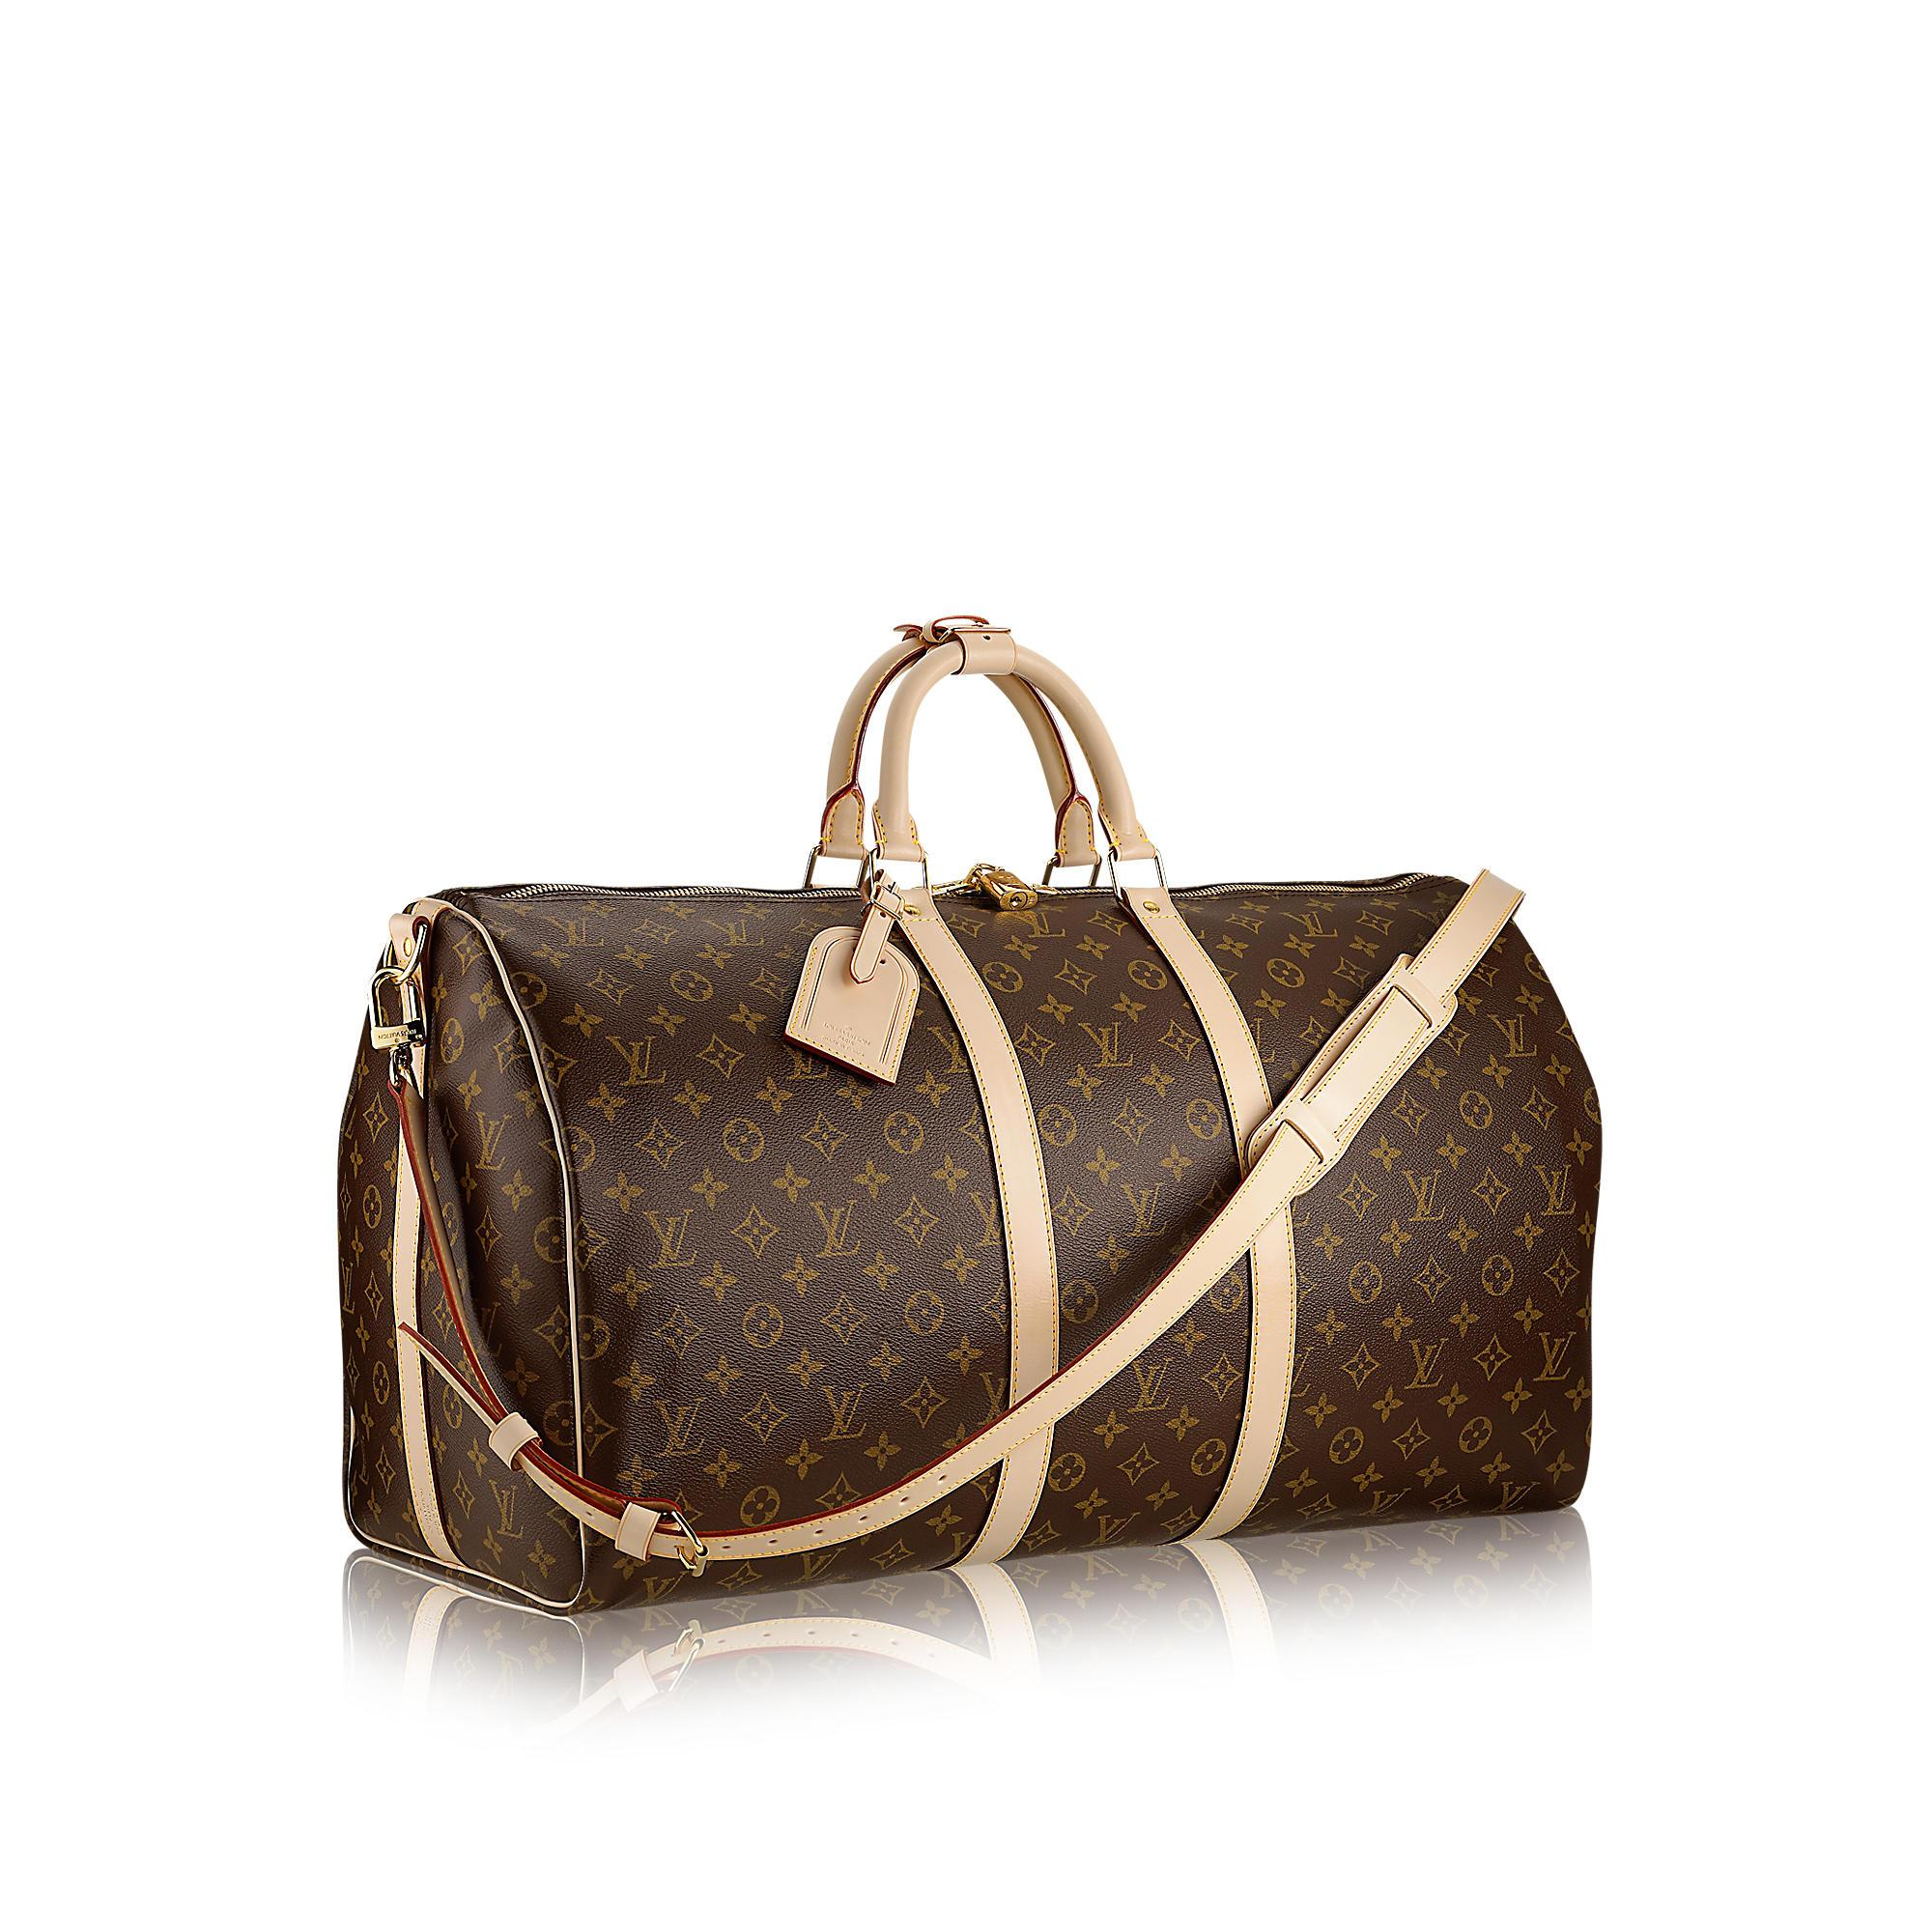LOUIS-VUITTON: (801, 1196, 863, 1261), (598, 1031, 667, 1088), (646, 1396, 709, 1454), (640, 1207, 697, 1270), (816, 1382, 867, 1442), (483, 1476, 529, 1541), (467, 1104, 510, 1175), (1122, 1359, 1173, 1417), (1118, 1182, 1169, 1240), (534, 909, 607, 950), (1398, 1168, 1451, 1223), (1483, 1010, 1537, 1062), (1529, 1161, 1578, 1217), (1076, 1017, 1132, 1065), (695, 913, 768, 950), (1532, 1329, 1576, 1385), (1403, 1336, 1447, 1391), (996, 909, 1069, 939), (1083, 1511, 1136, 1550), (1364, 1486, 1414, 1527), (793, 1545, 846, 1582), (1277, 908, 1338, 939), (1493, 1476, 1539, 1514)
